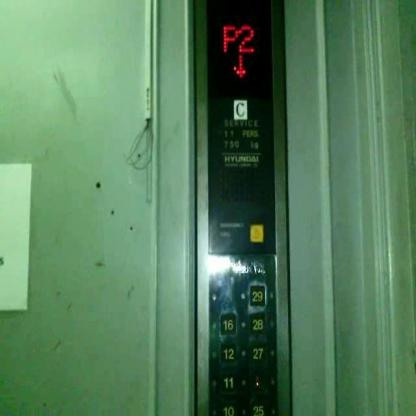11: (220, 374, 237, 394)
12: (220, 342, 236, 364)
16: (220, 314, 236, 335)
27: (250, 342, 266, 364)
28: (250, 312, 264, 334)
29: (249, 285, 265, 306)
alarm: (250, 224, 263, 241)
led: (218, 14, 258, 100)
